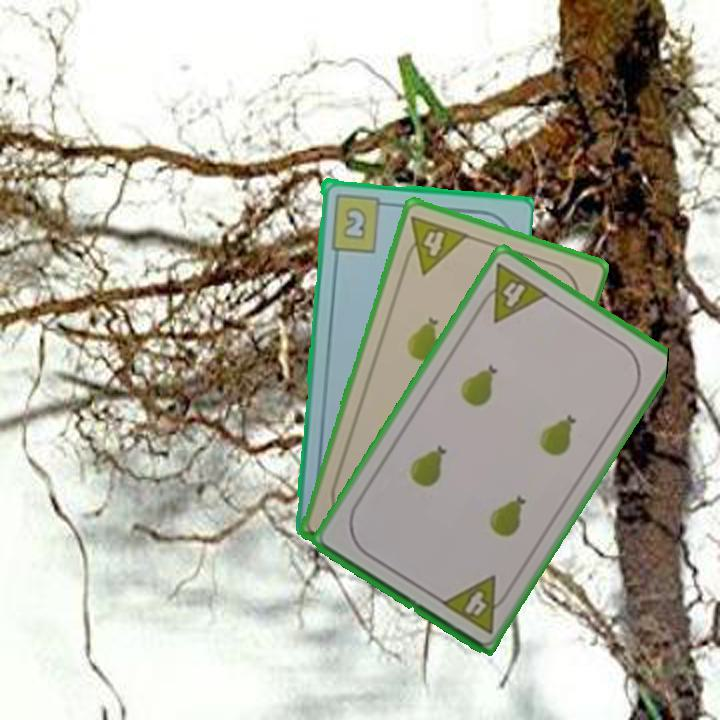2b: (326, 190, 392, 255)
4p: (472, 259, 552, 326), (437, 572, 514, 636), (398, 212, 471, 277)
